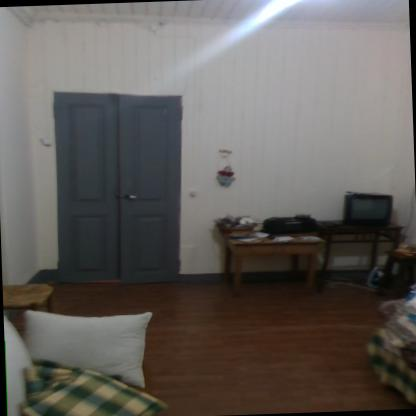closed: (41, 74, 203, 290)
